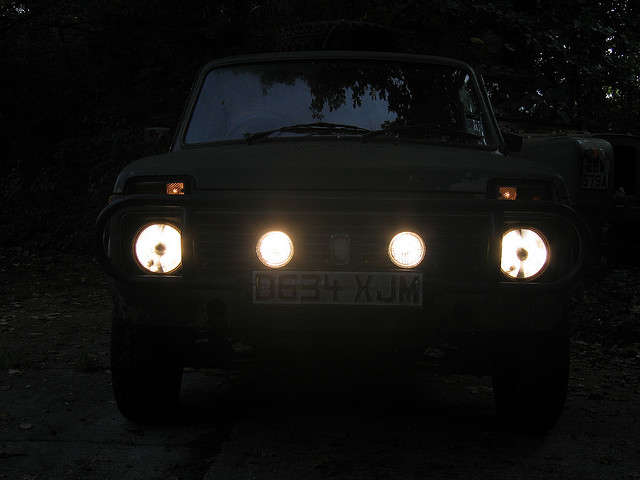car: (79, 40, 602, 448)
